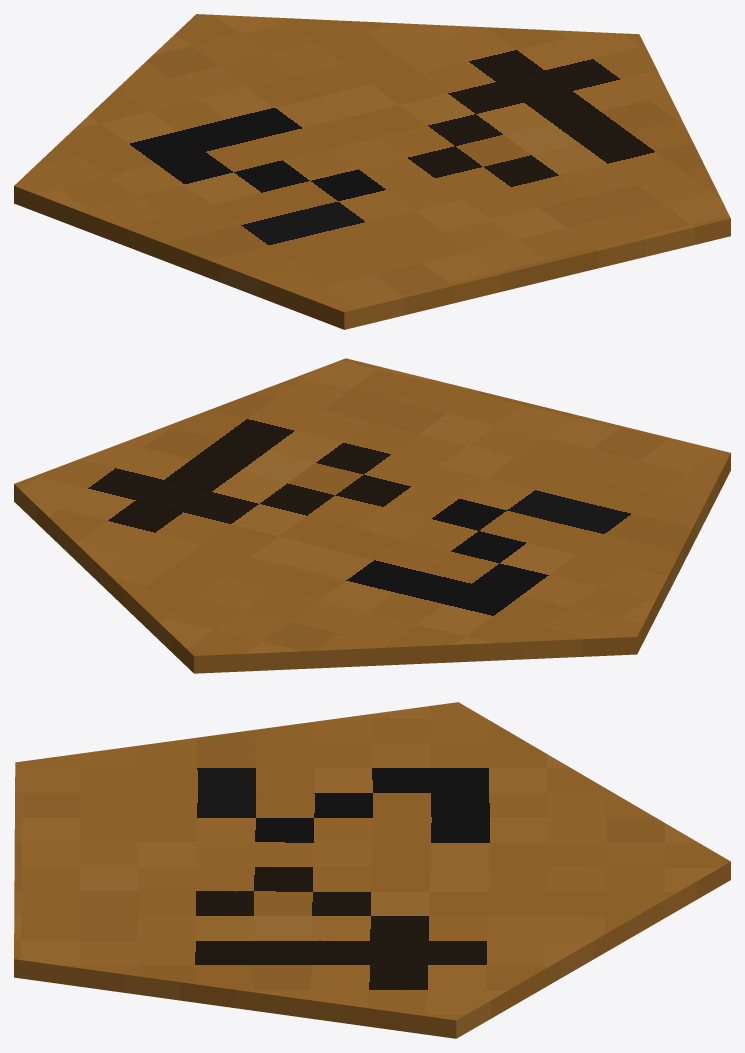
Rendered from 5cent.fbx.
The picture shows the model from 3 angles, top to bottom: view 1: azimuth 30°, elevation 25°; view 2: azimuth 150°, elevation 25°; view 3: azimuth 270°, elevation 25°; orthographic projection. The views are drawn at different scales.
Visible parts, largest first — view 1: ,05; view 2: ,05; view 3: ,05.
Part boxes in pixels (x1,y1,x2,y2): ,05: (14,14,730,329); ,05: (14,358,730,673); ,05: (14,702,730,1038).
Bounding box in the file's own units: 3.71 × 0.1 × 3.53.
